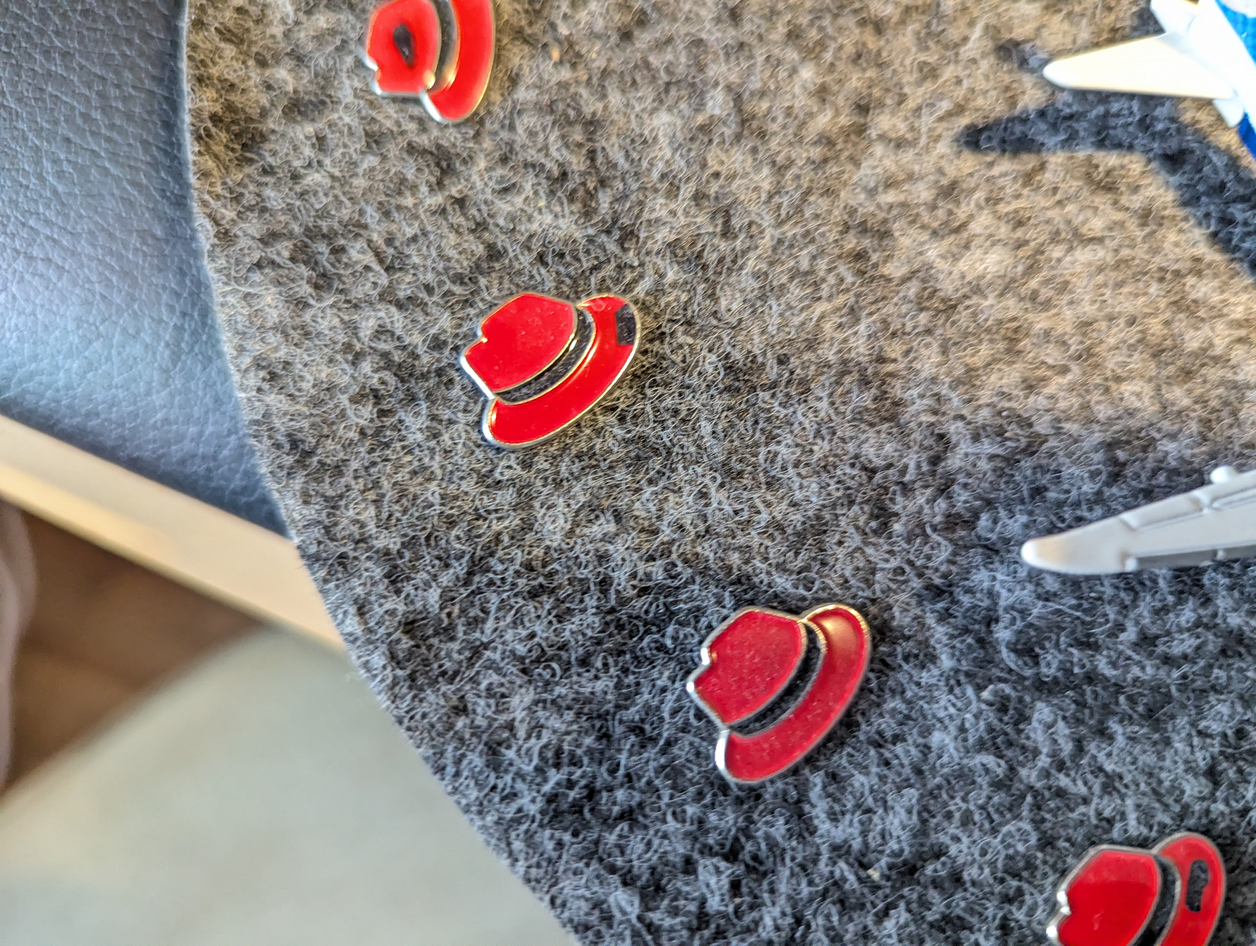Red-Hat: (679, 558, 921, 796), (456, 259, 648, 476), (1013, 811, 1238, 946), (352, 0, 526, 138)
Scratch: (596, 293, 666, 368), (1170, 848, 1228, 923), (385, 13, 426, 80)
